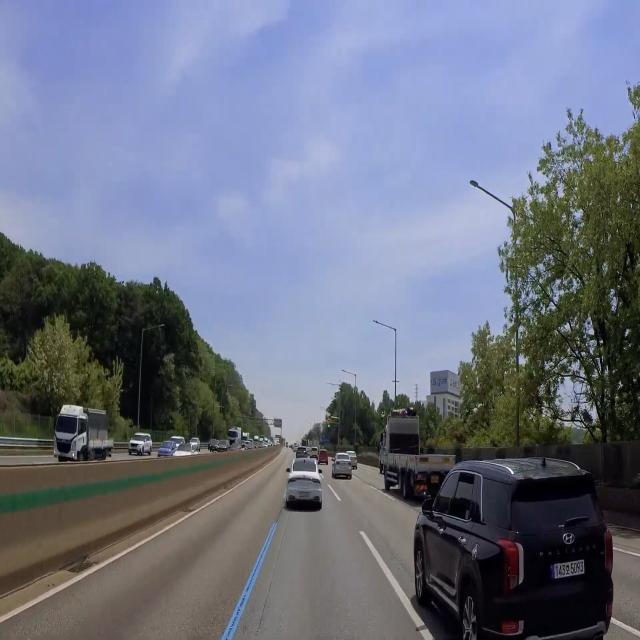car: (548, 554, 588, 582), (297, 489, 312, 504), (430, 472, 441, 488), (339, 464, 349, 475)
